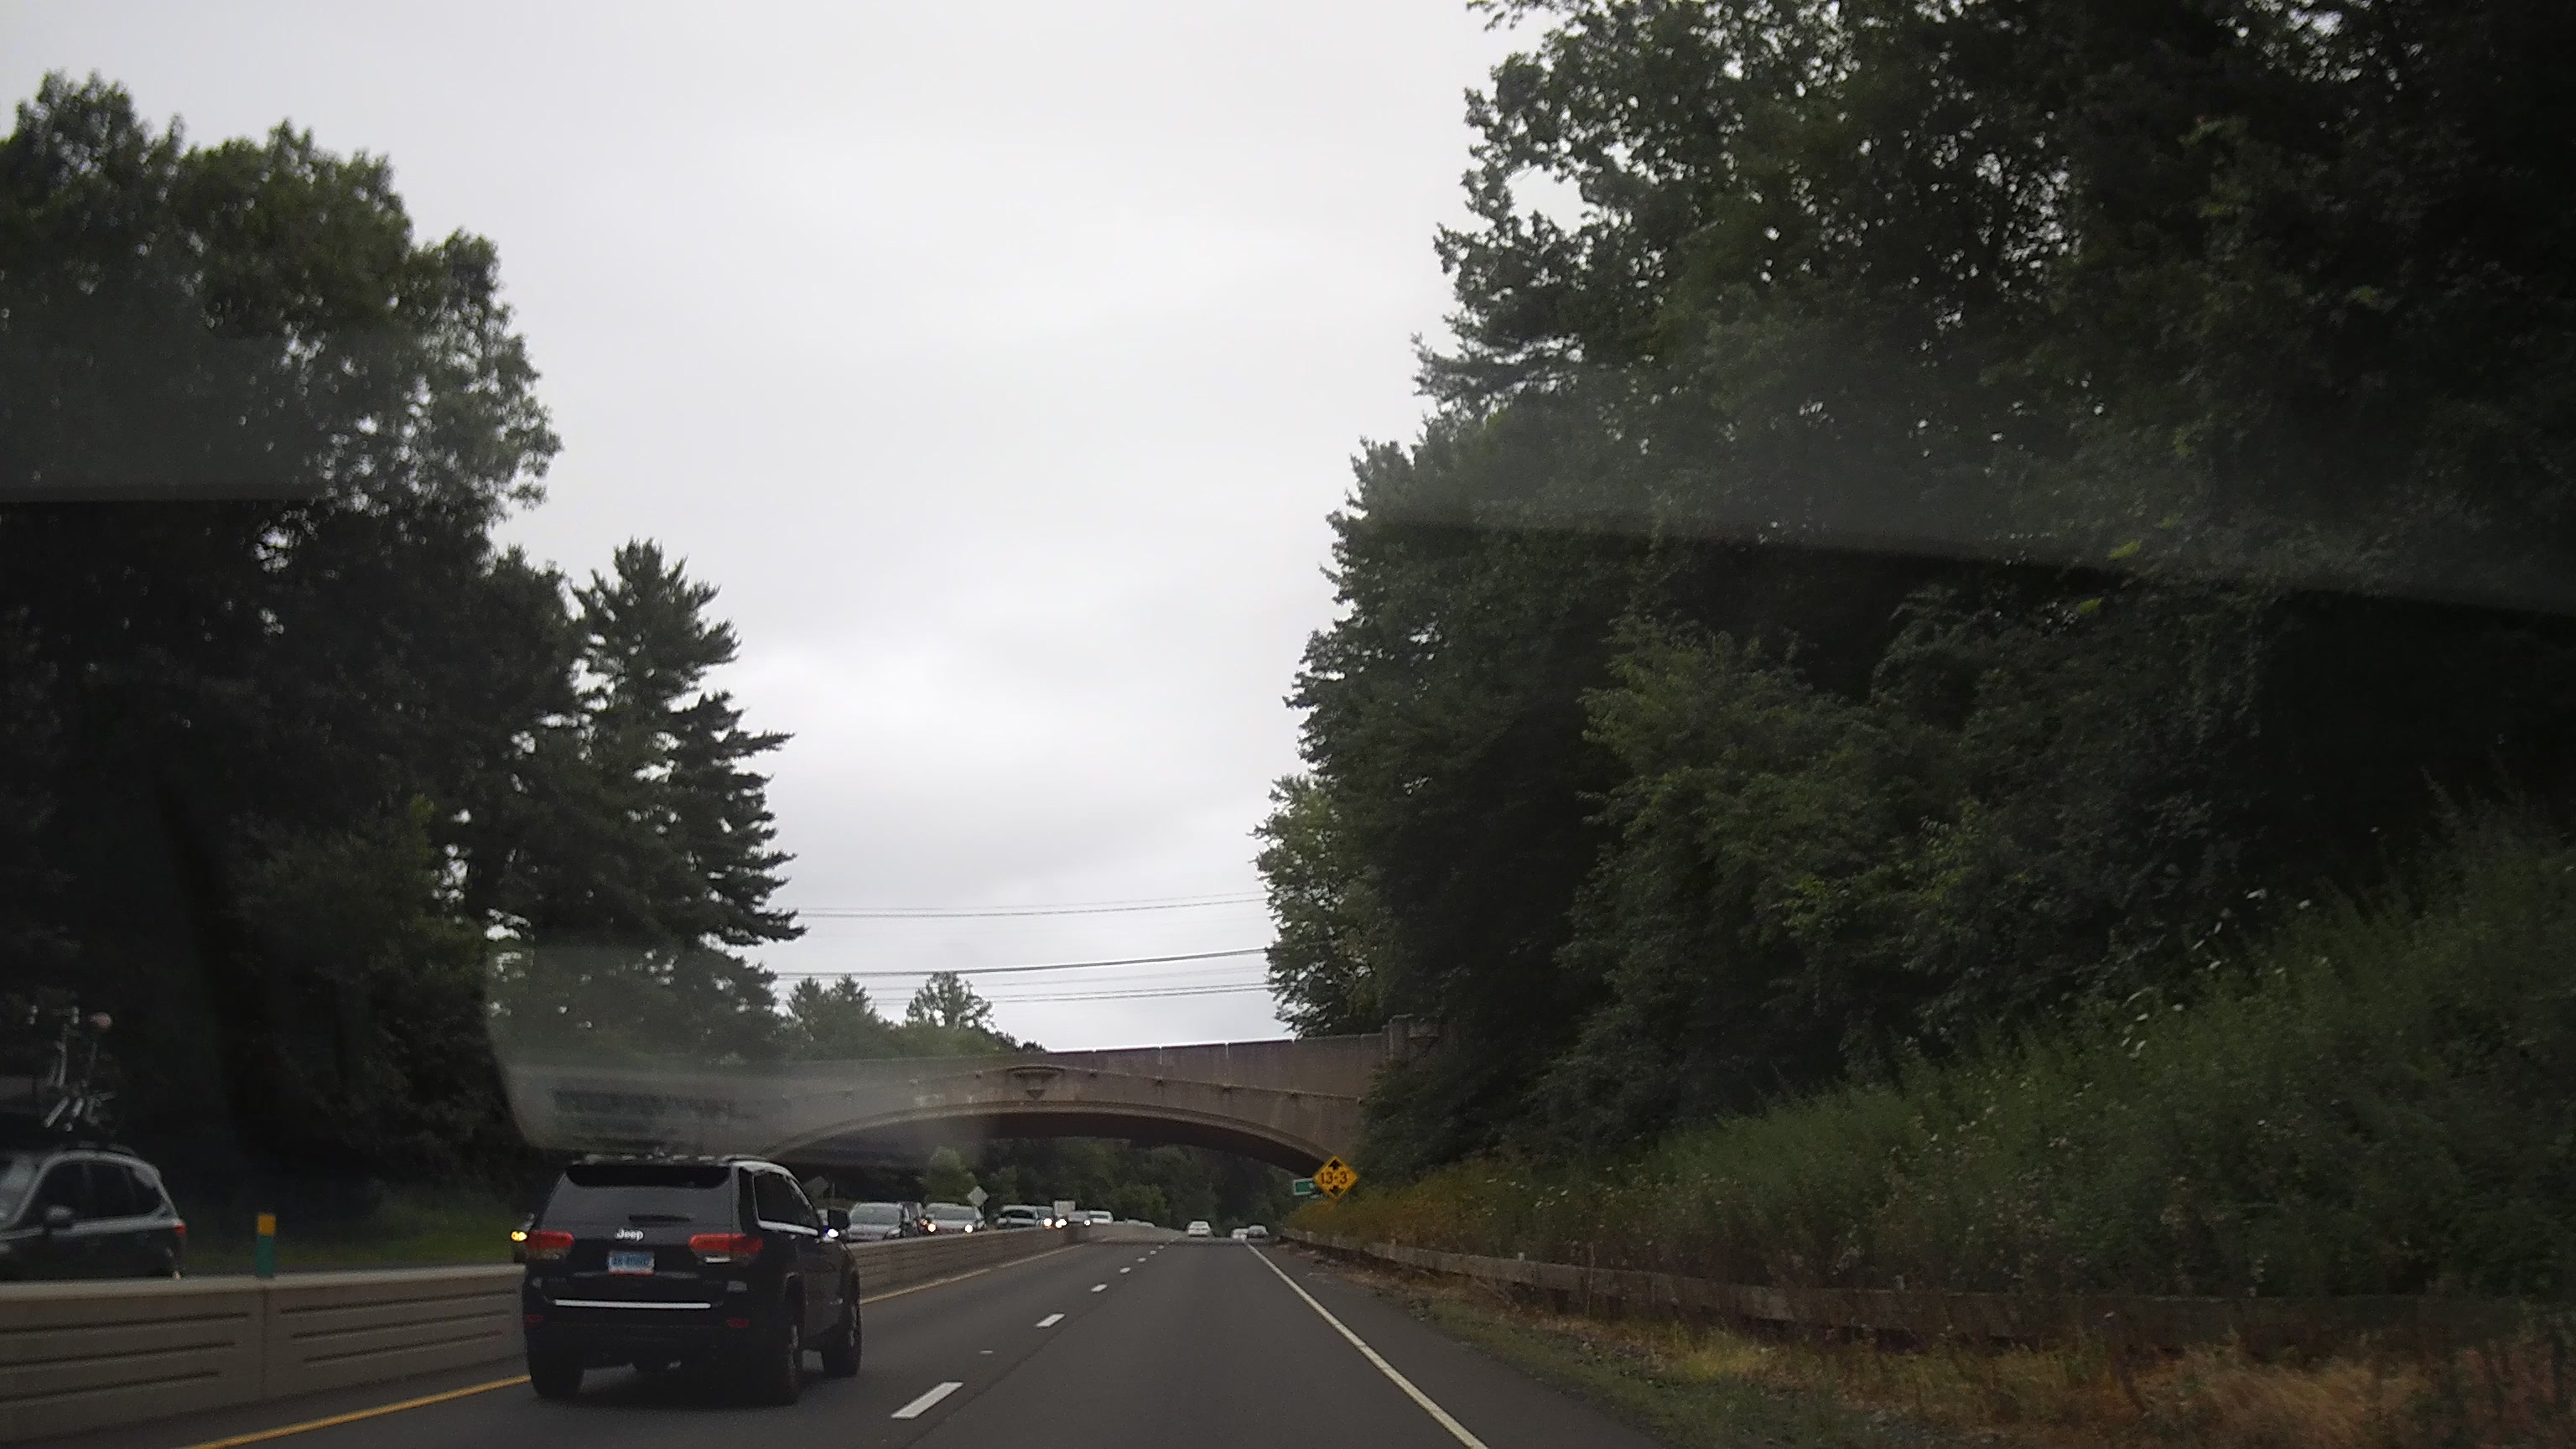low-clearance-sign: (1313, 1155, 1359, 1201)
